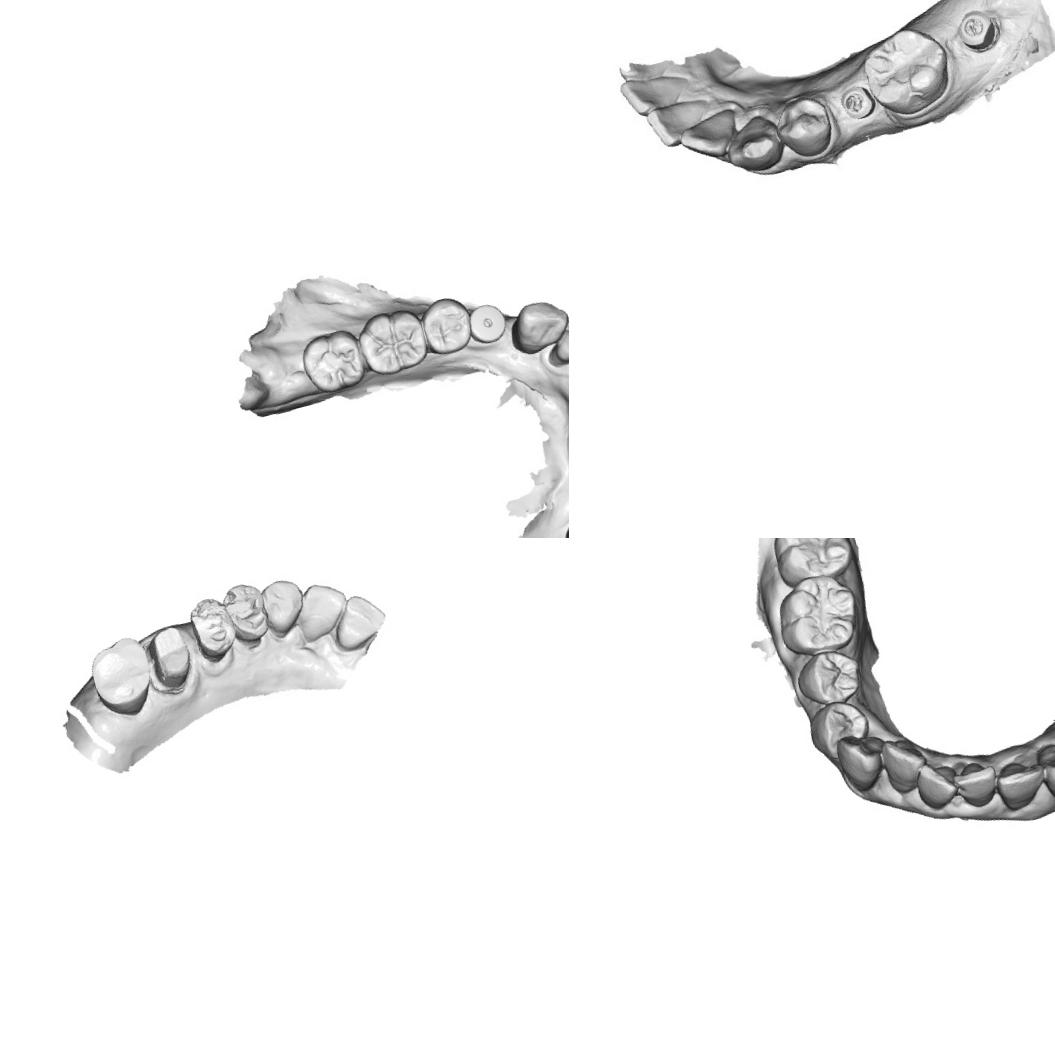canine: (832, 727, 895, 798), (504, 292, 569, 356), (720, 111, 785, 175), (256, 574, 312, 641), (1036, 733, 1055, 805)
crown: (140, 621, 198, 697)
implant: (951, 2, 1002, 53), (464, 299, 512, 350), (837, 77, 878, 123)
incisor: (288, 576, 356, 645), (323, 588, 392, 656), (647, 93, 724, 149), (988, 748, 1050, 814), (622, 64, 694, 118), (676, 111, 740, 171), (948, 751, 1004, 813), (878, 732, 932, 795), (910, 758, 960, 814), (541, 306, 569, 376)
molar: (854, 18, 960, 122), (768, 566, 869, 665), (82, 629, 161, 723), (350, 302, 434, 383), (294, 324, 371, 402), (760, 538, 859, 589)
premolar: (787, 638, 866, 713), (801, 690, 875, 765), (771, 91, 840, 162), (184, 591, 243, 667), (414, 291, 477, 362), (217, 577, 275, 652)
